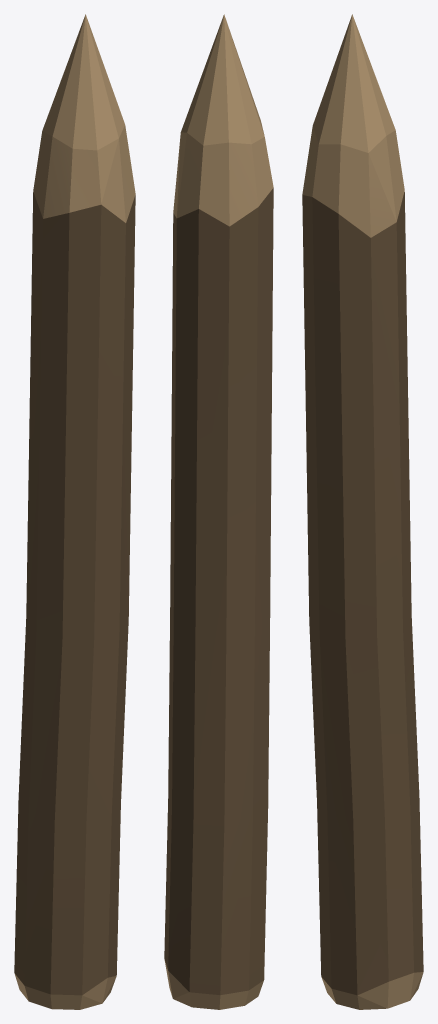
File: Espiga_06.glb
The picture shows the model from 3 angles, left to right: view 1: azimuth 90°, elevation 25°; view 2: azimuth 150°, elevation 25°; view 3: azimuth 270°, elevation 25°; orthographic projection.
Visible parts, largest first — view 1: SM_Prop_Wood_Sharp_02; view 2: SM_Prop_Wood_Sharp_02; view 3: SM_Prop_Wood_Sharp_02.
Part boxes in pixels (left/top/right/bottom): SM_Prop_Wood_Sharp_02: left=14, top=14, right=135, bottom=1009; SM_Prop_Wood_Sharp_02: left=164, top=14, right=273, bottom=1009; SM_Prop_Wood_Sharp_02: left=302, top=14, right=423, bottom=1009.
Size of the model in its own units: 0.3116 by 3.38 by 0.3769.
Materials: 1 (1 with a texture image).
